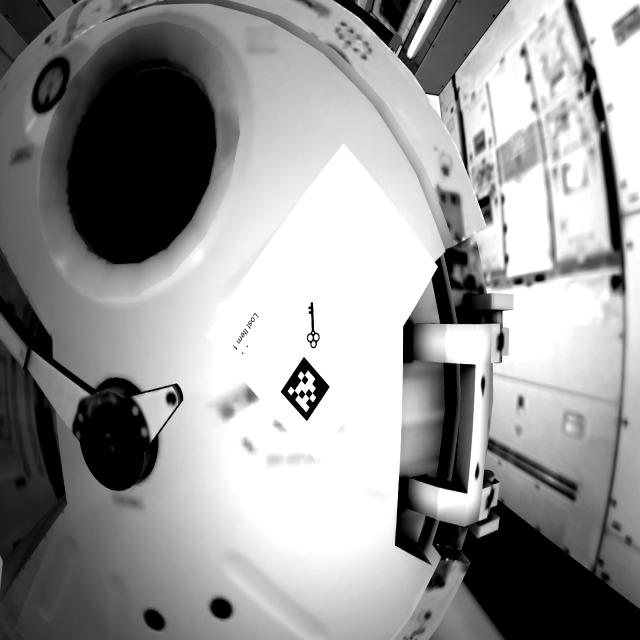coin: (297, 298, 329, 354)
